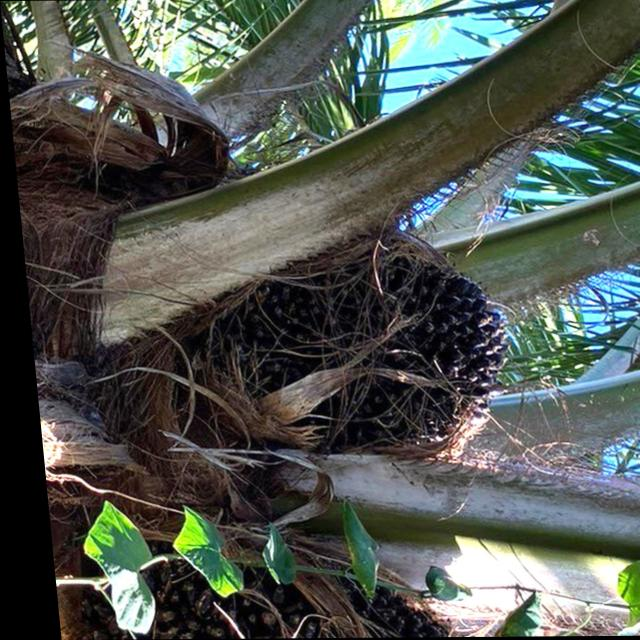almost: (176, 221, 533, 469)
